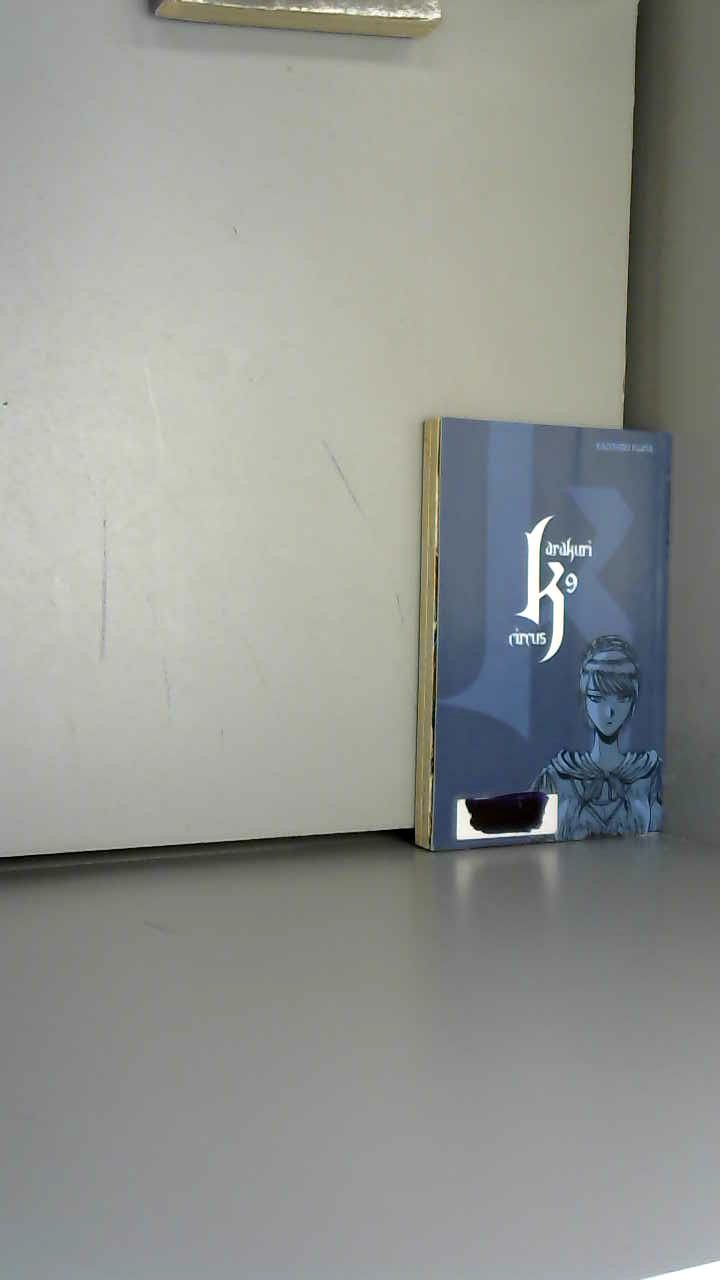book: (400, 390, 716, 877)
